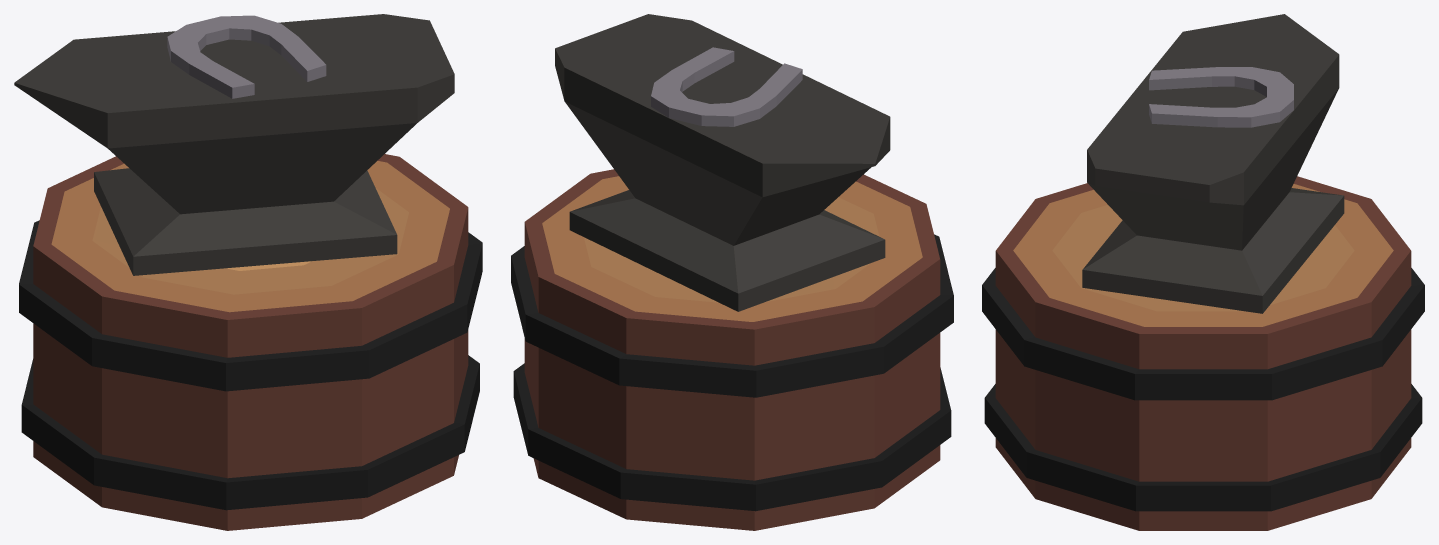
Rendered from anvil(production_table).fbx.
3 views of the same model, side by side, from view 1: azimuth 30°, elevation 25°; view 2: azimuth 150°, elevation 25°; view 3: azimuth 270°, elevation 25° (orthographic). The views are drawn at different scales.
Parts seen in each view (by area): view 1: stump.001, anvil.001, horseshoe.001; view 2: stump.001, anvil.001, horseshoe.001; view 3: stump.001, anvil.001, horseshoe.001.
Boxes of the visible parts, box(x1,y1,x2,y2) form: stump.001: box(19, 154, 482, 530); anvil.001: box(14, 14, 454, 275); horseshoe.001: box(167, 15, 326, 98); stump.001: box(511, 169, 953, 530); anvil.001: box(555, 14, 890, 311); horseshoe.001: box(651, 47, 802, 126); stump.001: box(982, 176, 1424, 530); anvil.001: box(1082, 14, 1344, 313); horseshoe.001: box(1149, 67, 1293, 127).
Size of the model in its own units: 33.37 by 31.11 by 35.09.
